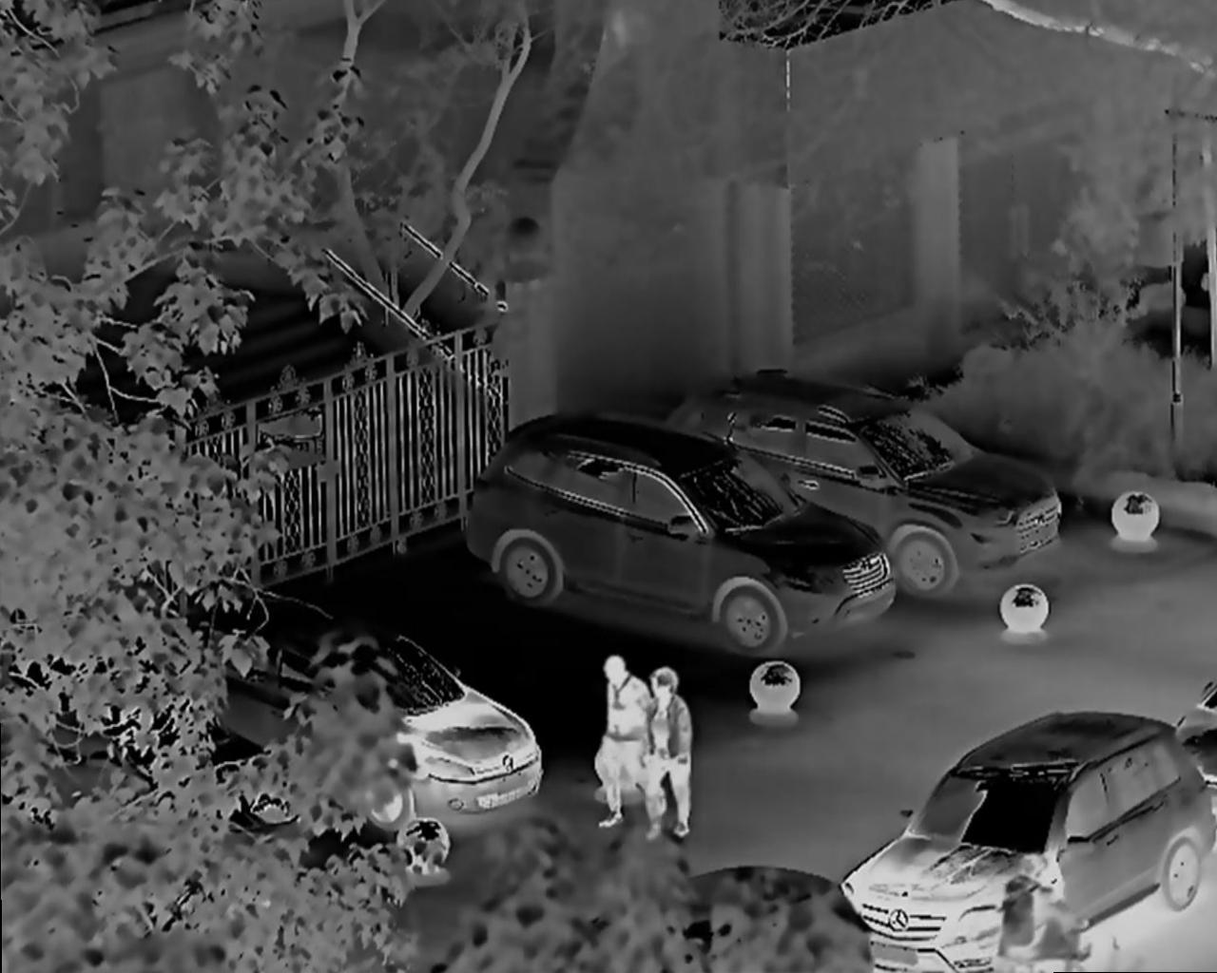person: (636, 658, 697, 845), (990, 849, 1074, 973), (588, 647, 636, 838)
